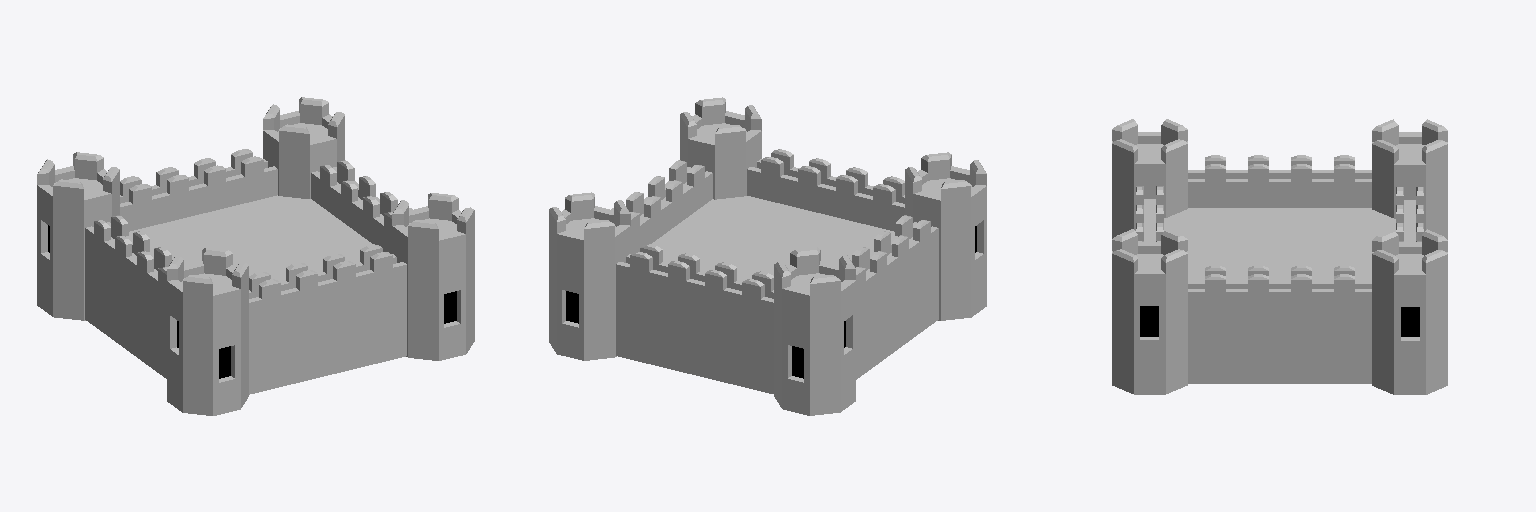
Rendered from Treasury.obj.
3 renders of one model, left to right at view 1: azimuth 30°, elevation 25°; view 2: azimuth 150°, elevation 25°; view 3: azimuth 270°, elevation 25°, orthographic.
Visible parts, largest first — view 1: Wall, Tower, Tower.001, Wall.003, Tower.003, Wall.001, Tower.002, Wall.002; view 2: Wall, Wall.001, Tower.003, Tower.002, Wall.003, Tower, Tower.001, Wall.002; view 3: Wall.002, Wall, Tower.001, Tower.002, Wall.003, Tower.003, Tower, Wall.001.
Boxes of the visible parts, box(x1,y1,x2,y2) form: Wall: box(129, 195, 406, 394); Tower: box(167, 248, 248, 415); Tower.001: box(392, 193, 474, 360); Wall.003: box(85, 215, 186, 378); Tower.003: box(37, 152, 119, 320); Wall.001: box(120, 149, 277, 231); Tower.002: box(263, 97, 344, 198); Wall.002: box(311, 160, 412, 253); Wall: box(651, 149, 904, 280); Wall.001: box(616, 244, 773, 393); Tower.003: box(774, 247, 855, 415); Tower.002: box(549, 192, 630, 360); Wall.003: box(837, 215, 938, 379); Tower: box(905, 152, 986, 320); Tower.001: box(680, 97, 761, 199); Wall.002: box(611, 160, 712, 253); Wall.002: box(1188, 266, 1371, 383); Wall: box(1136, 186, 1395, 279); Tower.001: box(1112, 229, 1187, 394); Tower.002: box(1372, 229, 1447, 394); Wall.003: box(1188, 155, 1371, 207); Tower.003: box(1372, 119, 1447, 239); Tower: box(1112, 119, 1187, 238); Wall.001: box(1396, 187, 1423, 241).
Bounding box in the file's own units: 61.06 × 27.02 × 60.84.